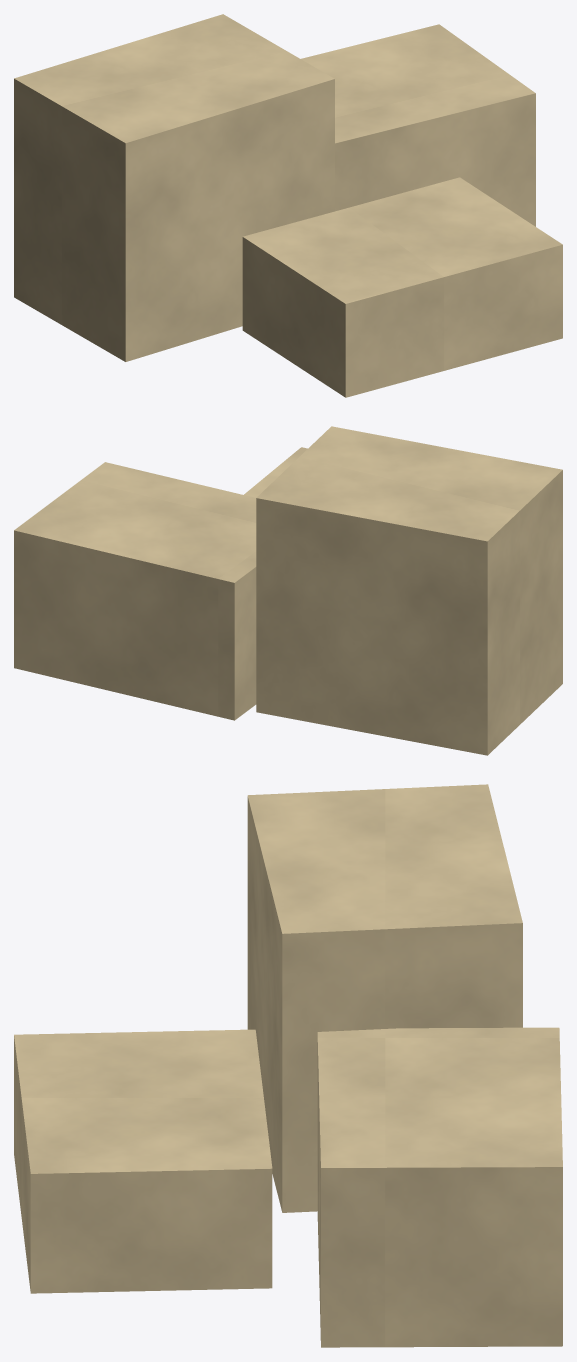
The model's file is Paper_Stack_1_LOD2.gltf.
3 views of the same model, one above another, from view 1: azimuth 30°, elevation 25°; view 2: azimuth 150°, elevation 25°; view 3: azimuth 270°, elevation 25° (orthographic). The views are drawn at different scales.
Visible parts, largest first — view 1: Paper_Stack_1_LOD2; view 2: Paper_Stack_1_LOD2; view 3: Paper_Stack_1_LOD2.
Boxes of the visible parts, x1,y1,x2,y2 form: Paper_Stack_1_LOD2: (14, 14, 562, 397); Paper_Stack_1_LOD2: (14, 426, 562, 755); Paper_Stack_1_LOD2: (14, 784, 562, 1347).
Bounding box in the file's own units: 0.6109 × 0.28 × 0.4991.
1 material, 1 textured.
